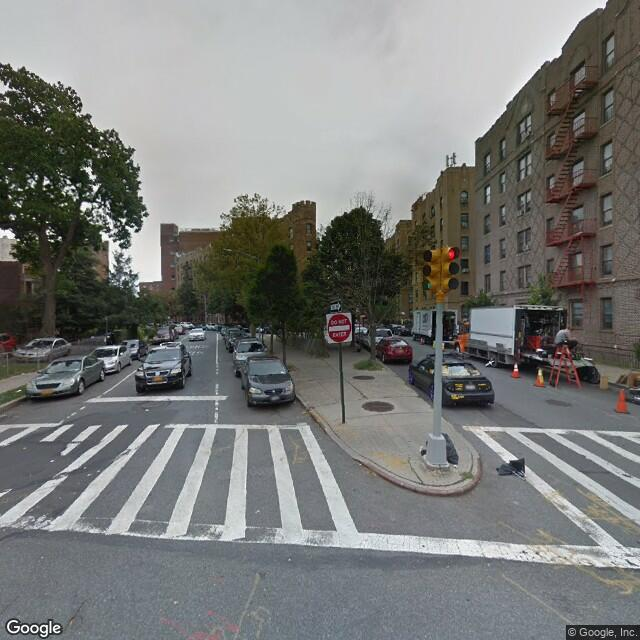litter: (497, 456, 528, 478), (17, 388, 22, 390), (144, 407, 151, 408)
